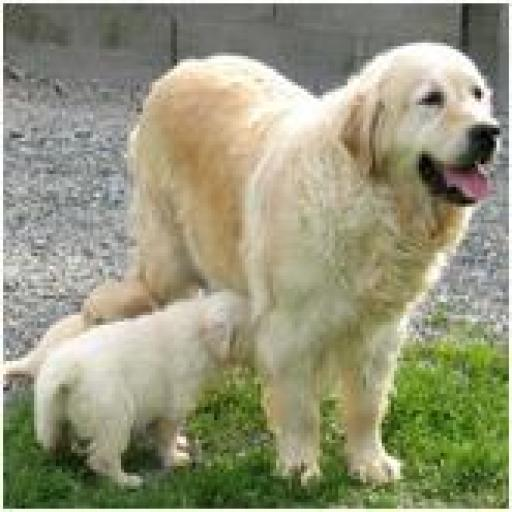dog_face: (340, 38, 507, 208)
